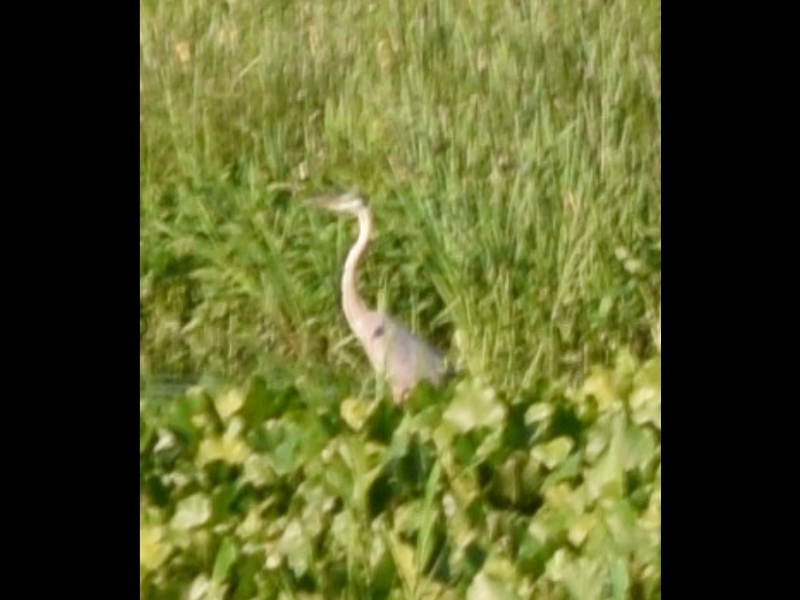heron: (300, 187, 457, 413)
